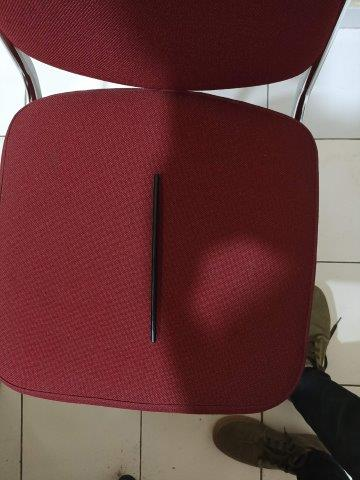sedotan: (151, 175, 159, 342)
